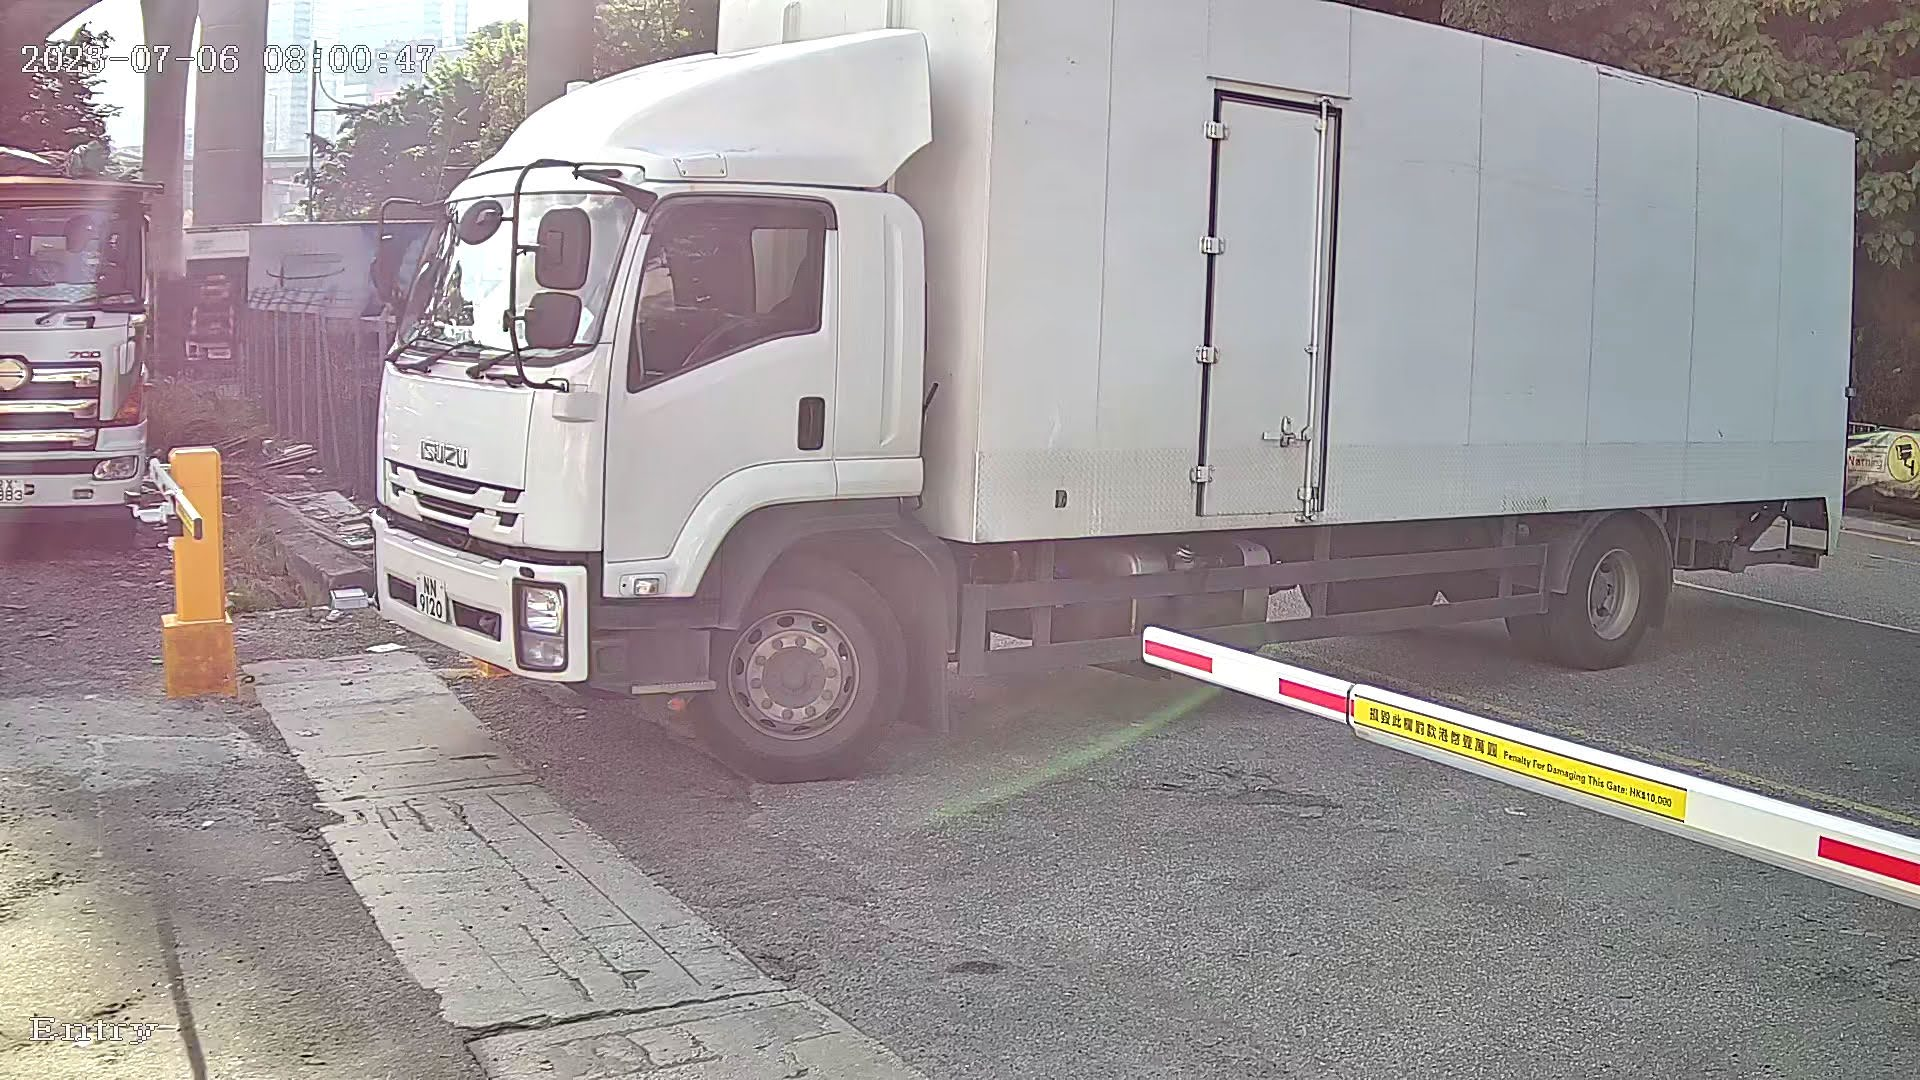truck_large: (315, 1, 1865, 793)
